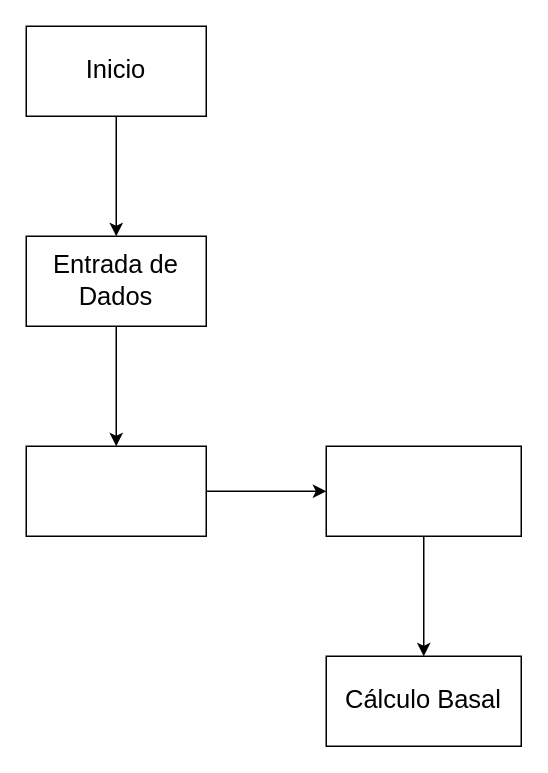
Some shapes in this 548 by 773 pixel diagram are drawn without their labels. The shapes that lost their labels are listed below. From the top down, each one's centre as x and y in pixels, then its label:
At (115,490): "Calculo IMC".
At (423,490): "Decisão: Dentro do peso ideal".
